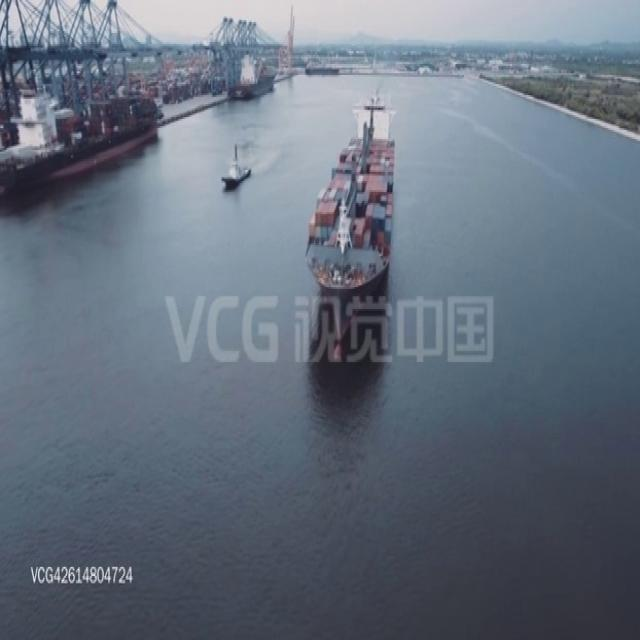cargoship: (307, 95, 396, 341)
houseboat: (220, 143, 250, 187)
